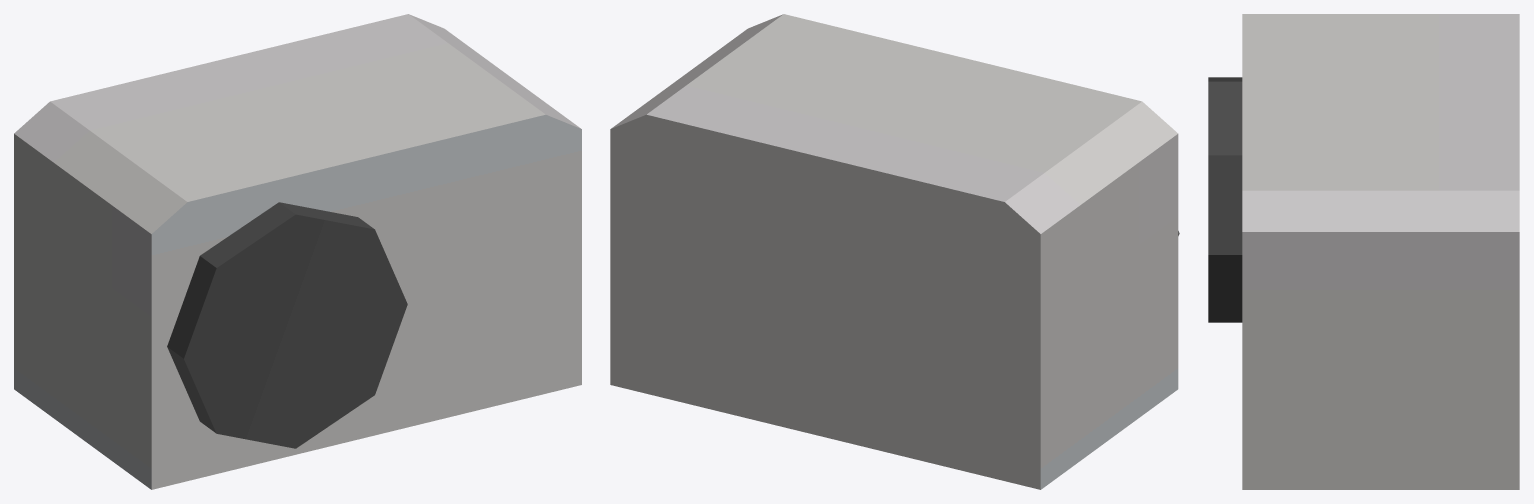
Rendered from AC Unit.glb.
The picture shows the model from 3 angles, left to right: view 1: azimuth 30°, elevation 25°; view 2: azimuth 150°, elevation 25°; view 3: azimuth 270°, elevation 25°; orthographic projection.
Parts seen in each view (by area): view 1: AC_Unit; view 2: AC_Unit; view 3: AC_Unit.
Boxes of the visible parts, x1,y1,x2,y2 form: AC_Unit: (14,14,581,489); AC_Unit: (610,14,1179,489); AC_Unit: (1208,14,1519,489).
Bounding box in the file's own units: 0.6846 × 0.4241 × 0.4252.
Materials: 1 (1 with a texture image).
